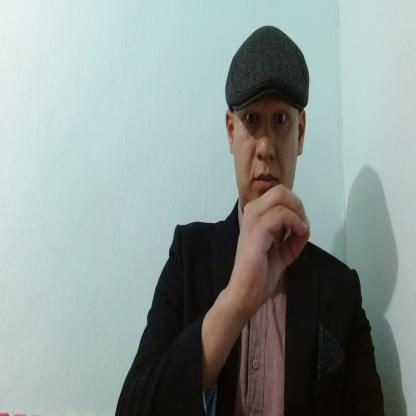O: (235, 181, 312, 312)
